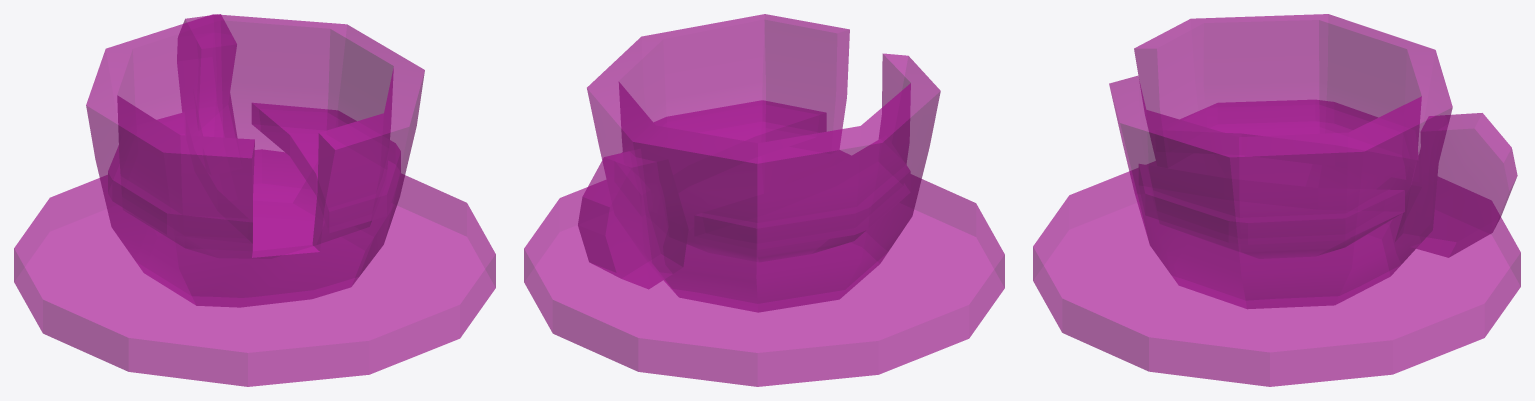
Rendered from SM_Prop_Teacup_Ride_01_Teacup_03_Collision.fbx.
The picture shows the model from 3 angles, left to right: view 1: azimuth 30°, elevation 25°; view 2: azimuth 150°, elevation 25°; view 3: azimuth 270°, elevation 25°; orthographic projection.
Visible parts, largest first — view 1: SM_Prop_Teacup_Ride_01_Teacup_03_Collision; view 2: SM_Prop_Teacup_Ride_01_Teacup_03_Collision; view 3: SM_Prop_Teacup_Ride_01_Teacup_03_Collision.
Part boxes in pixels (x1,y1,x2,y2): SM_Prop_Teacup_Ride_01_Teacup_03_Collision: [14, 14, 495, 386]; SM_Prop_Teacup_Ride_01_Teacup_03_Collision: [524, 14, 1004, 386]; SM_Prop_Teacup_Ride_01_Teacup_03_Collision: [1033, 14, 1520, 386].
Size of the model in its own units: 275 by 128 by 275.
